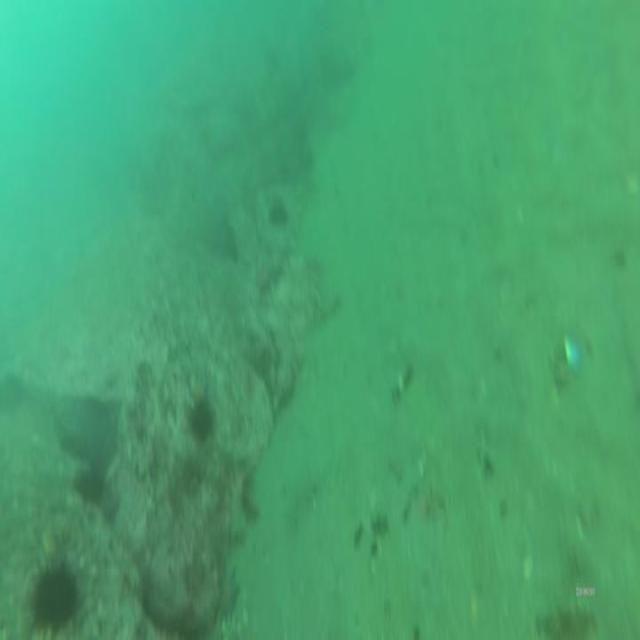echinus: (27, 561, 77, 637), (190, 402, 214, 442)
